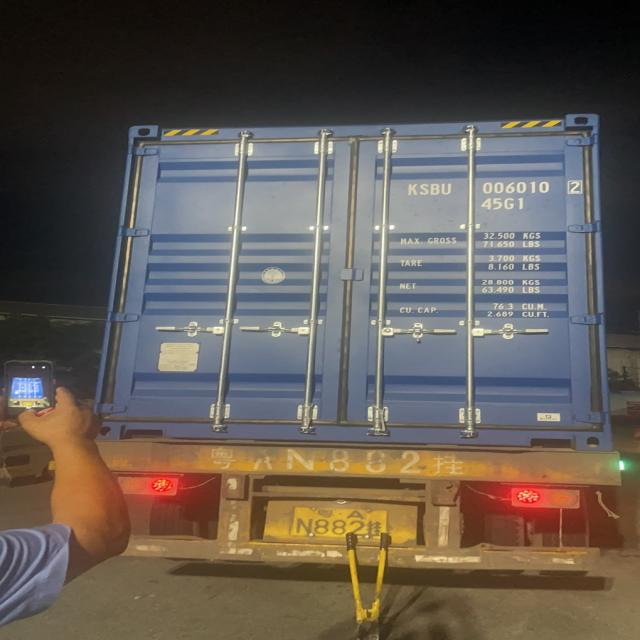seal: (410, 322, 428, 348)
